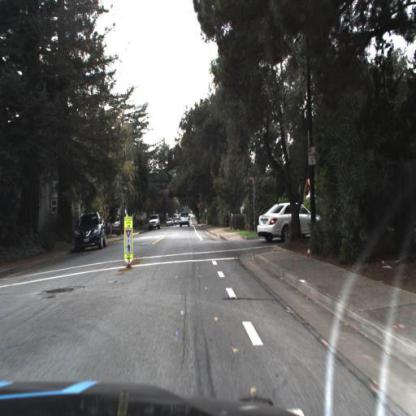car: (256, 201, 322, 244), (72, 210, 108, 254), (178, 210, 192, 226), (148, 212, 160, 230)
